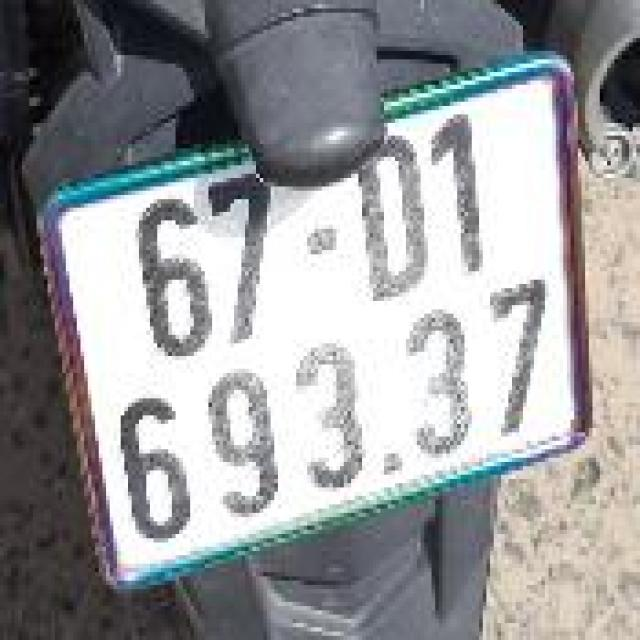1: (428, 106, 497, 275)
3: (294, 332, 368, 493), (404, 305, 474, 458)
6: (135, 193, 216, 354), (113, 390, 194, 538)
7: (208, 170, 289, 348), (483, 271, 552, 437)
9: (205, 364, 285, 522)
D: (349, 125, 434, 307)
